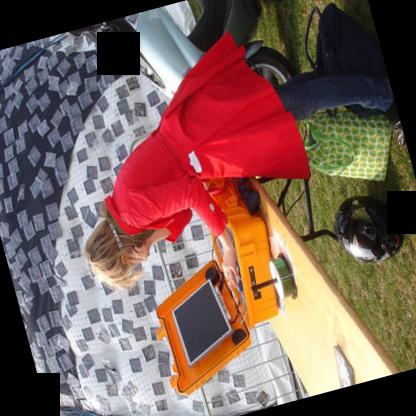backpack: (302, 1, 389, 115)
handbag: (302, 108, 392, 179)
suitcase: (148, 175, 281, 395)
